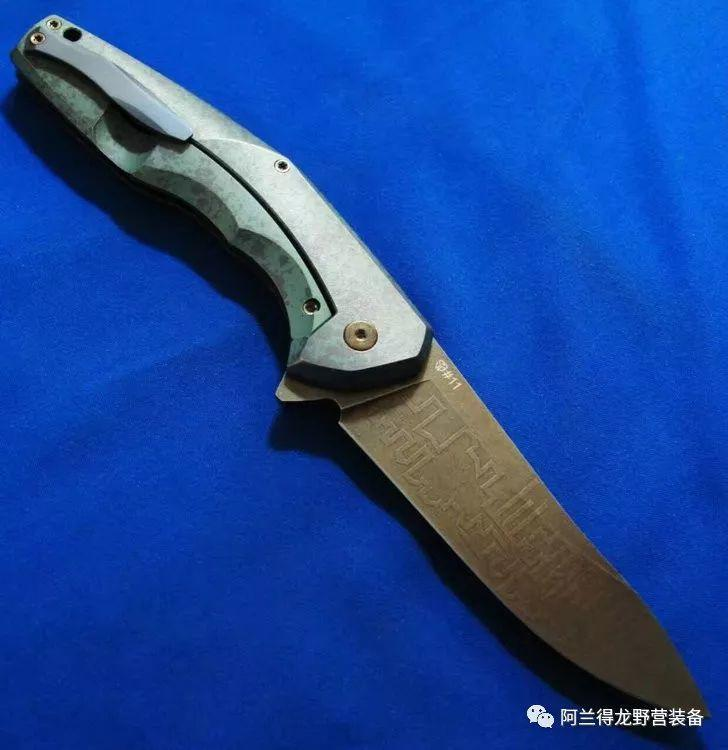knife: (11, 5, 722, 710)
